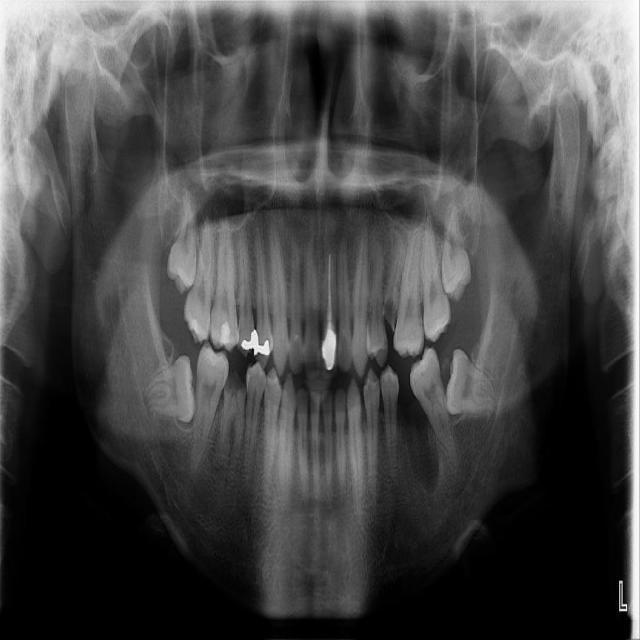3M ESPE Implant: (167, 193, 196, 294)
52: (181, 289, 214, 342), (210, 307, 239, 351), (233, 318, 256, 358), (320, 329, 337, 380), (254, 325, 273, 368)
73: (320, 242, 339, 337), (617, 586, 624, 604)
BioLife Implant: (441, 203, 472, 302)
Biomet 3i Implant: (443, 348, 500, 419)
Keystone Dental Implant: (141, 355, 197, 426)
